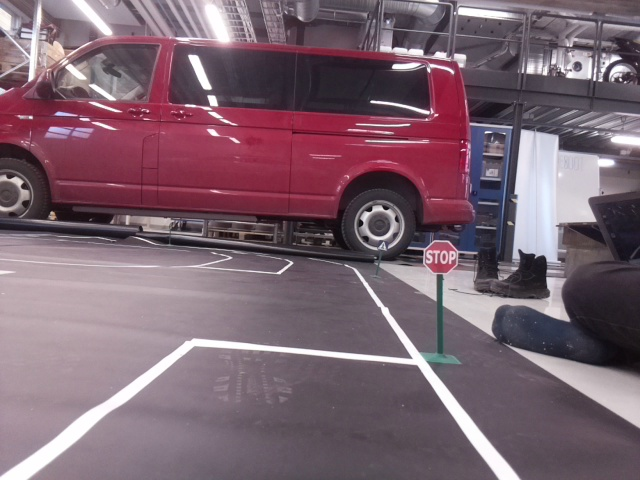Stop: (422, 238, 457, 275)
